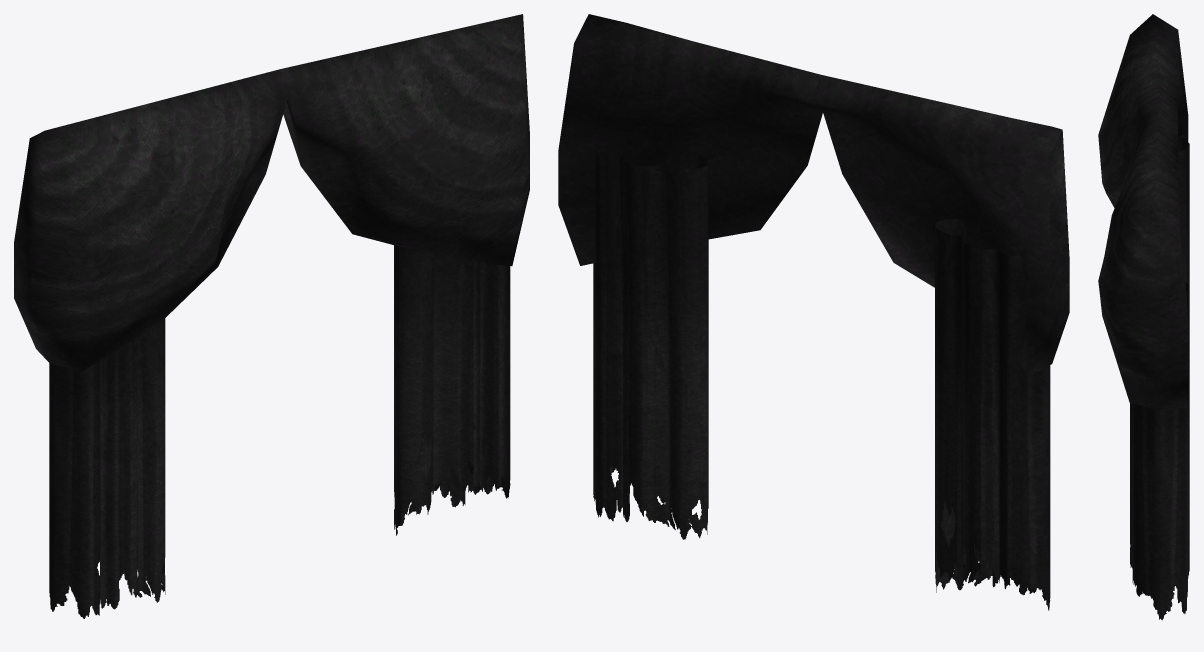
File: curtain12_long_broken.dae
The picture shows the model from 3 angles, left to right: view 1: azimuth 30°, elevation 25°; view 2: azimuth 150°, elevation 25°; view 3: azimuth 270°, elevation 25°; orthographic projection. The views are drawn at different scales.
Parts seen in each view (by area): view 1: polySurface191, polySurface192; view 2: polySurface191, polySurface192; view 3: polySurface191.
Boxes of the visible parts, left/top/right/bottom form: polySurface191: left=14, top=14, right=529, bottom=618; polySurface192: left=68, top=419, right=494, bottom=594; polySurface191: left=558, top=14, right=1069, bottom=610; polySurface192: left=610, top=466, right=1030, bottom=593; polySurface191: left=1098, top=14, right=1189, bottom=620.
Size of what is drawn, in the model's own units: 2.5 by 2.42 by 0.4673.
